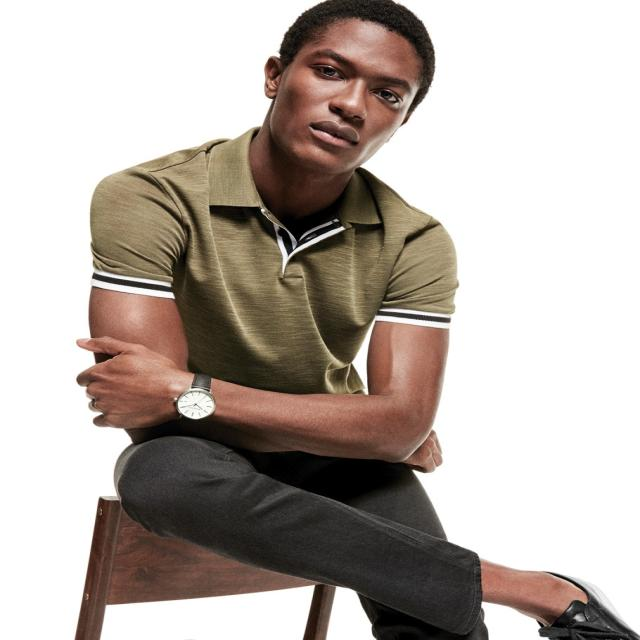human: (69, 0, 620, 640)
